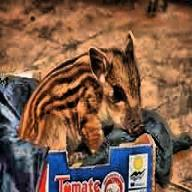boar: (18, 30, 146, 165)
